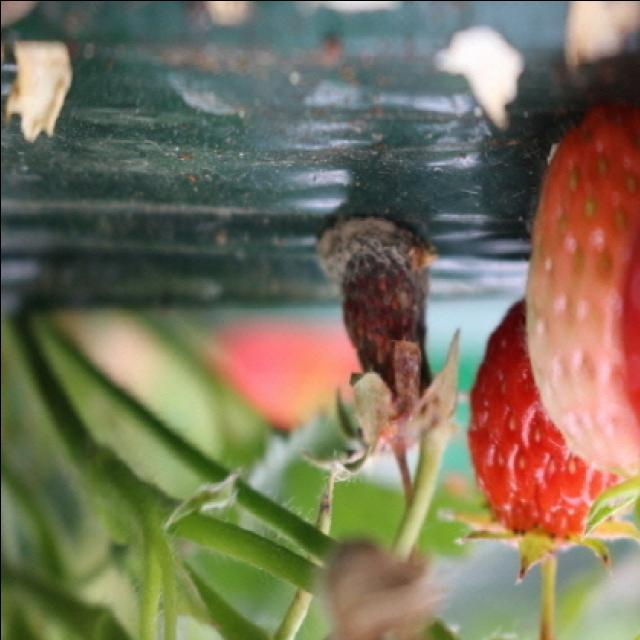Gray Mold: (306, 211, 459, 482)
